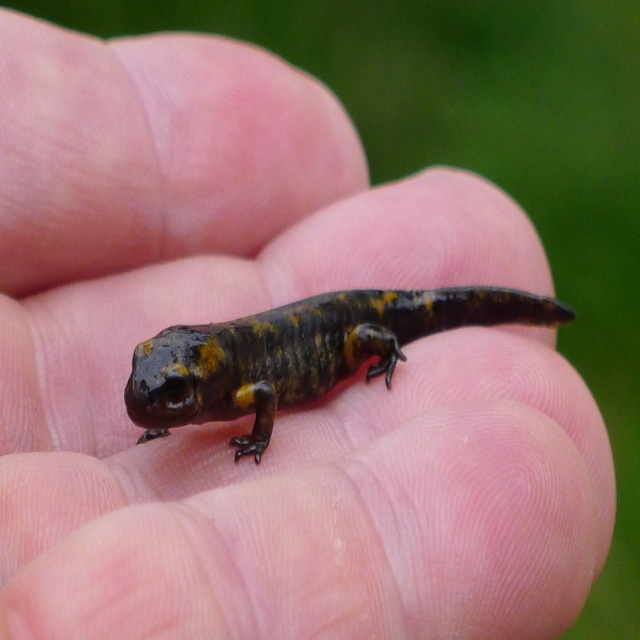Lizard: (125, 313, 574, 460)
